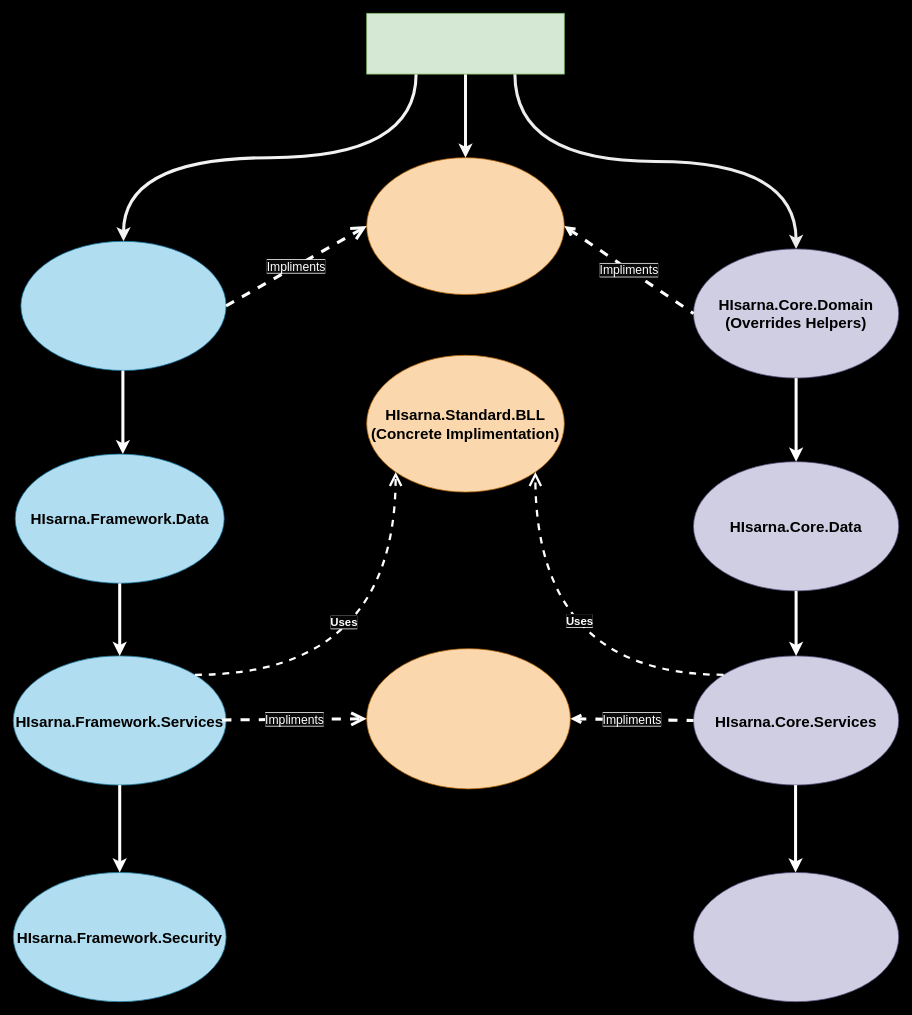
Some shapes in this 912 by 1015 pixel diagram are drawn without their labels. The centre of each missing label's shape, as x and y in pixels:
"HIsarna Authorization" belongs at (x=465, y=43).
"HIsarna.Core.Security" belongs at (x=796, y=937).
"HIsarna.Framework.Domain (Overrides Helpers)" belongs at (x=123, y=305).
"HIsarna.Standard.Domain (Abstract Implimentation)" belongs at (x=465, y=225).
"HIsarna.Standard.Services (Interface definition only)" belongs at (x=468, y=718).
